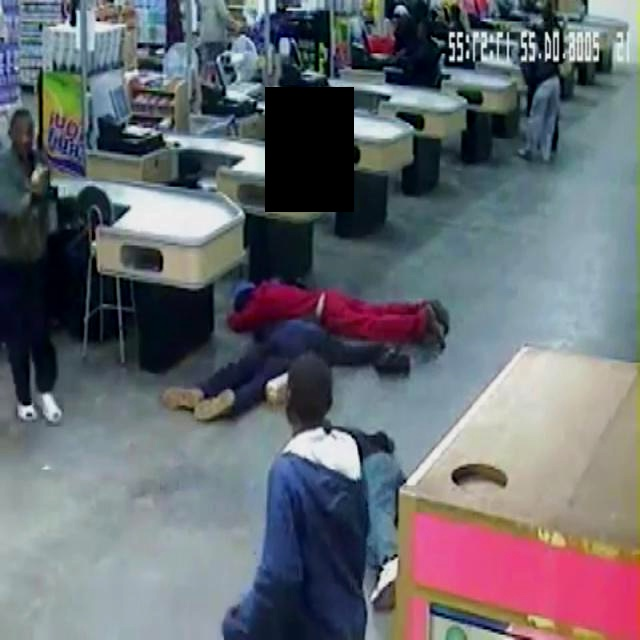gun: (34, 154, 59, 190)
